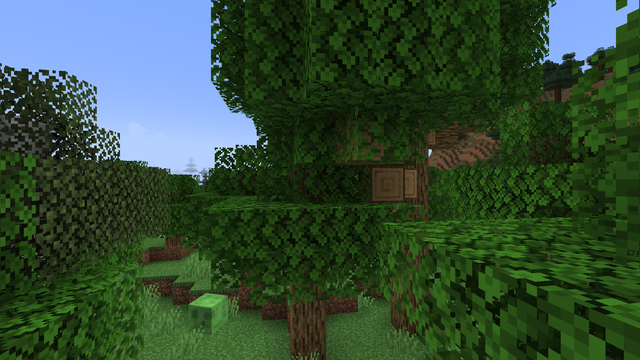slimes: (189, 292, 224, 335)
